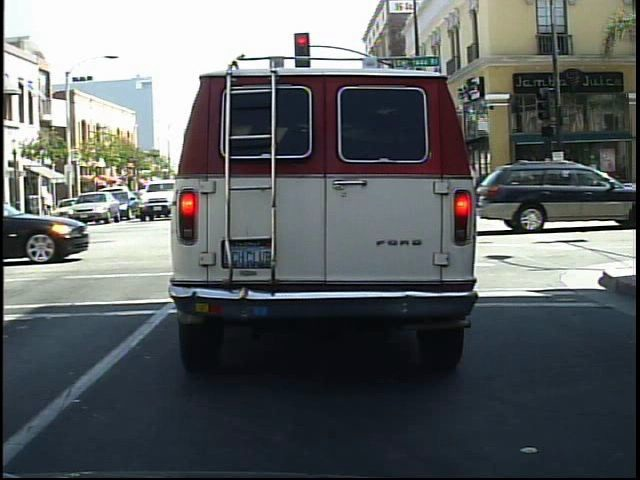person: (547, 146, 569, 209), (537, 154, 561, 211), (514, 157, 538, 211), (564, 157, 584, 208)
